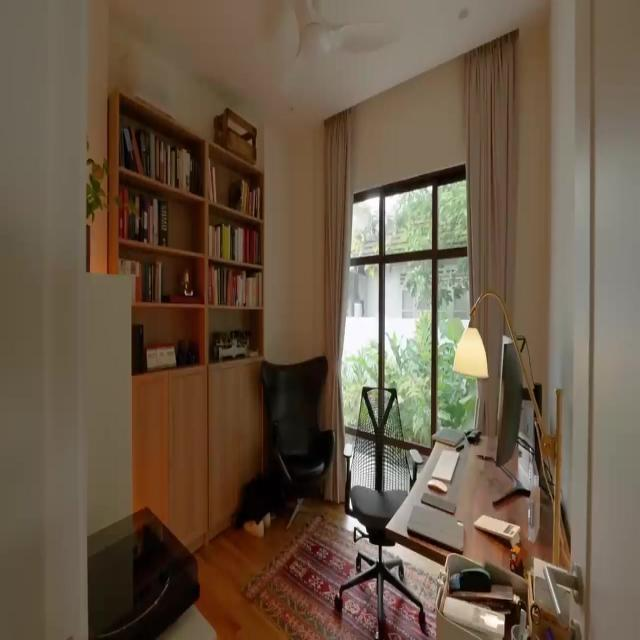obstacle: (385, 424, 571, 636), (334, 385, 426, 635), (260, 354, 334, 530)
